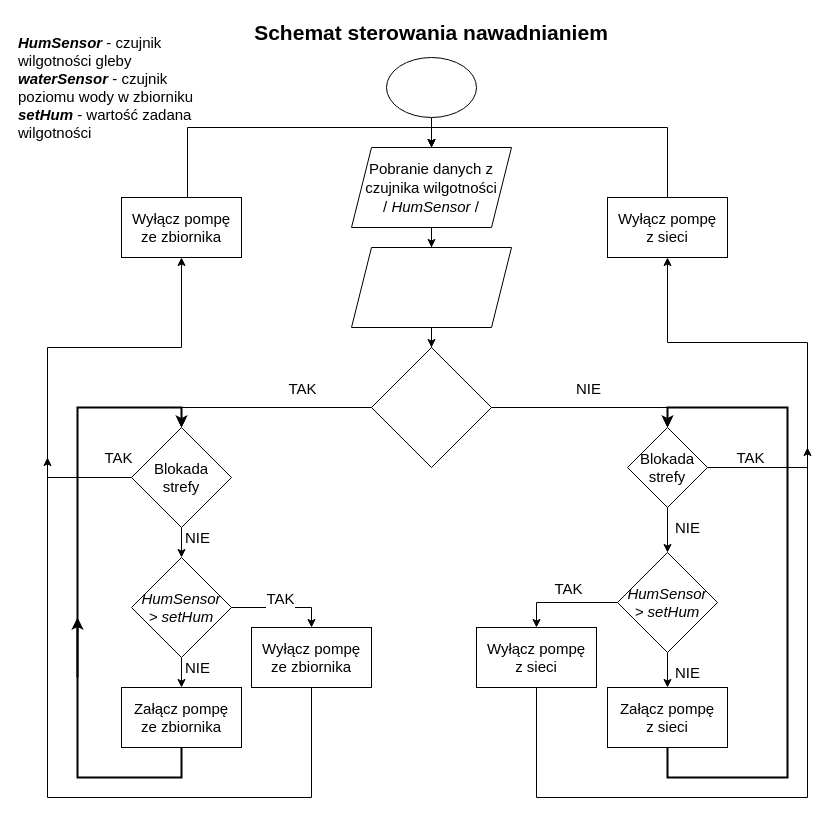
This 833x823 diagram has some shape labels left out. The shapes that lost their labels are listed below. From the top down, each one's centre as x and y in pixels, then its label:
At point (431, 87): "Start".
At point (431, 287): "Pobranie danych z czujnika poziomu wody w zbiorniku / waterSensor /".
At point (431, 407): "waterSensor > 10l".
